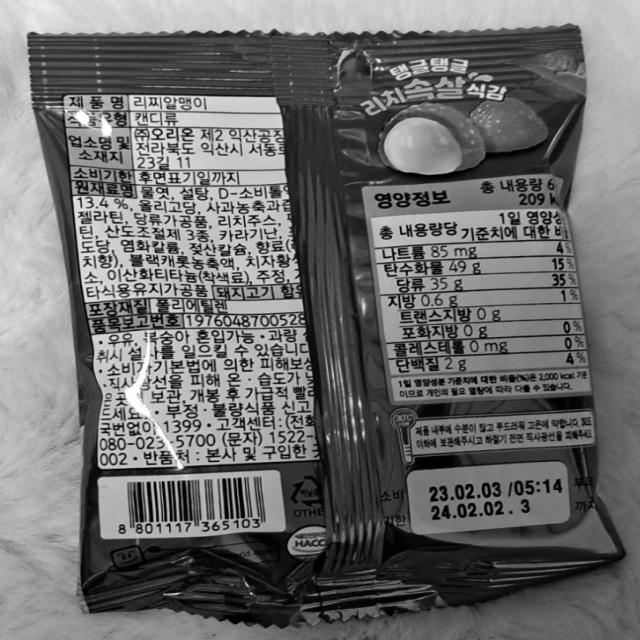Nutrition Label: (357, 176, 596, 395)
